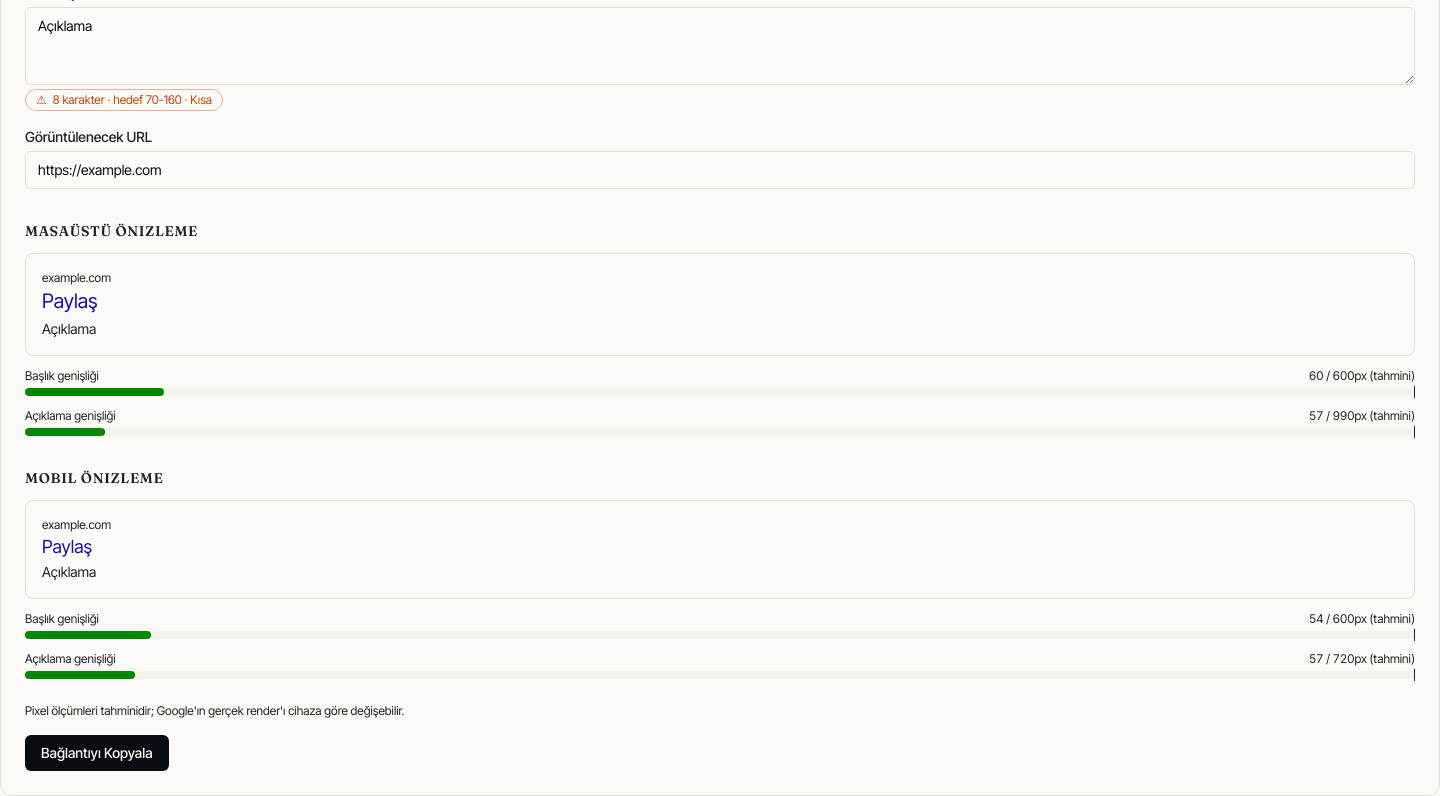
Test: SerpPreviewTool › falls back to execCommand copy when the clipboard API is unavailable
(page scrolled)
Click the button "Bağlantıyı Kopyala": (97, 753) [25, 735, 169, 771]
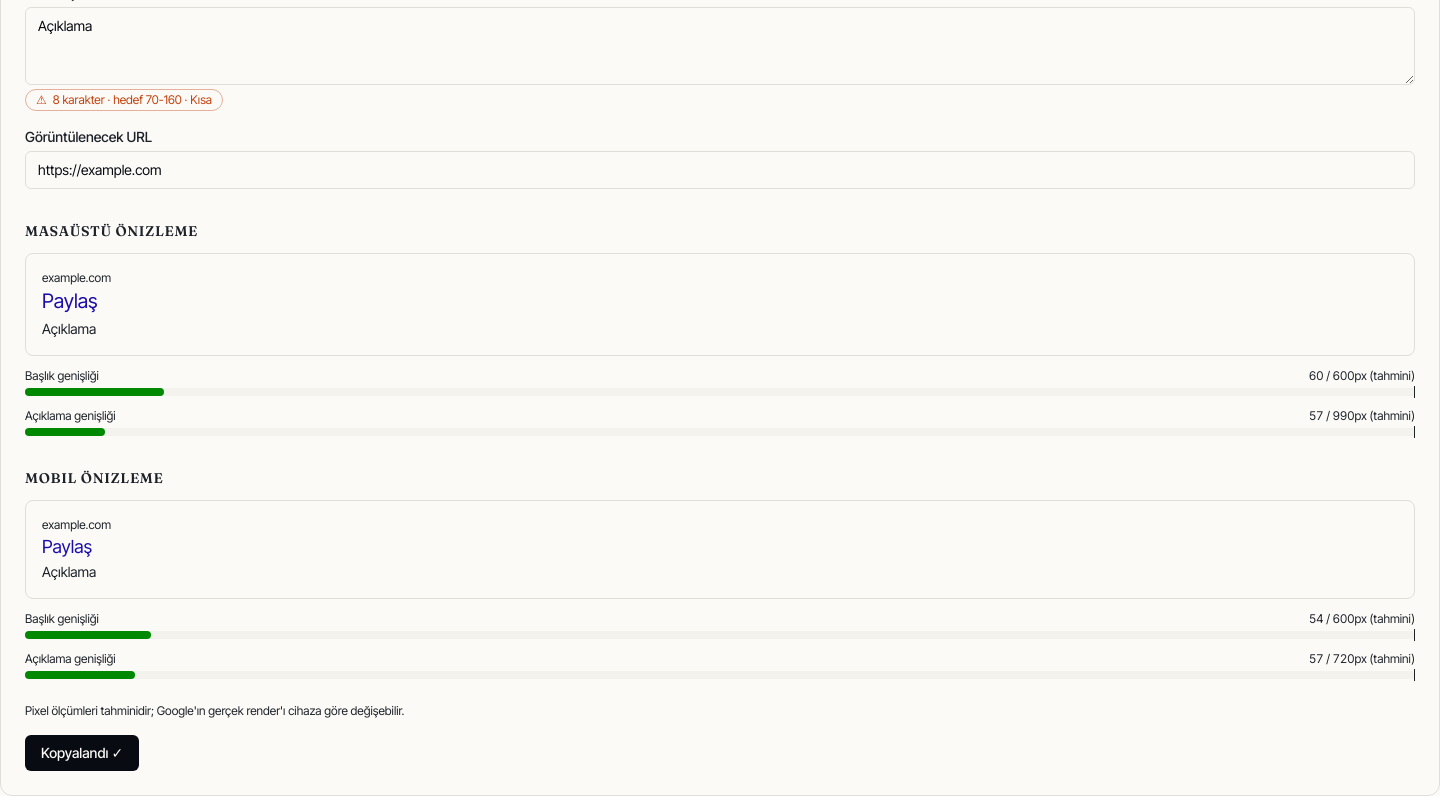
Check: the button "Kopyalandı ✓" is shown, box [25, 735, 139, 771]
